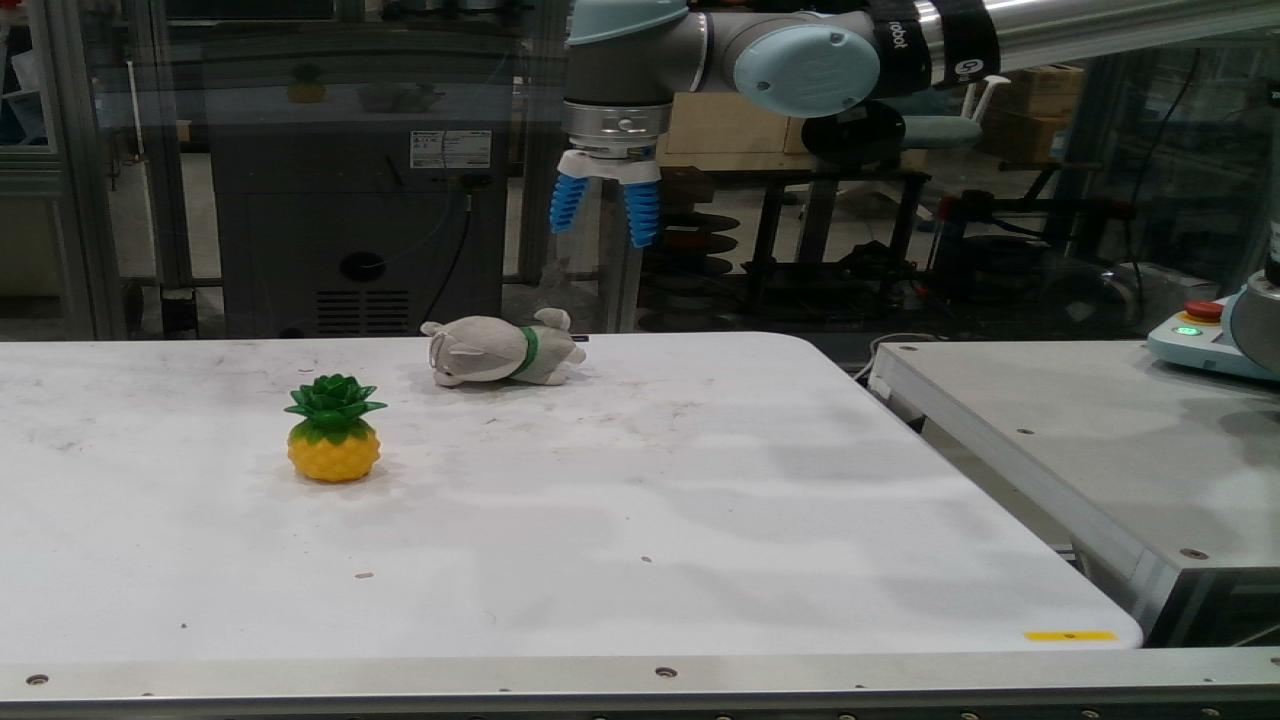UR5: (560, 0, 1279, 374)
gripper_left: (548, 173, 589, 233)
gripper_right: (619, 181, 658, 248)
target: (421, 308, 587, 388), (283, 373, 390, 482)
